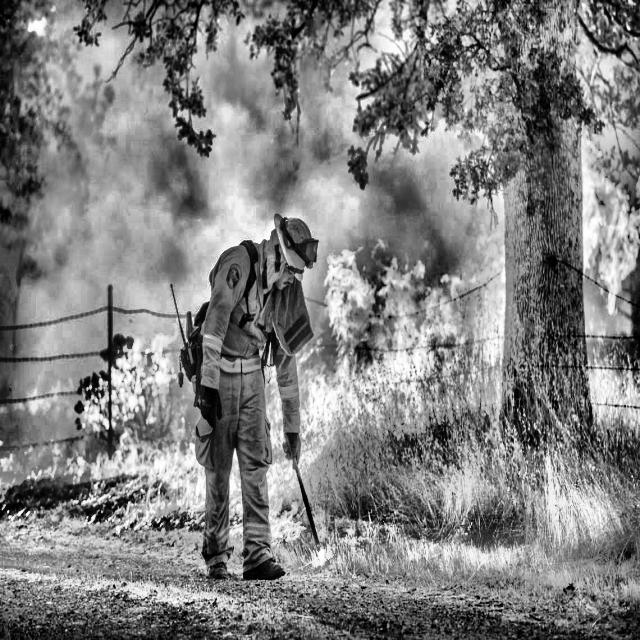fire: (64, 235, 640, 574), (313, 224, 520, 422), (88, 302, 183, 496), (566, 138, 636, 349)
